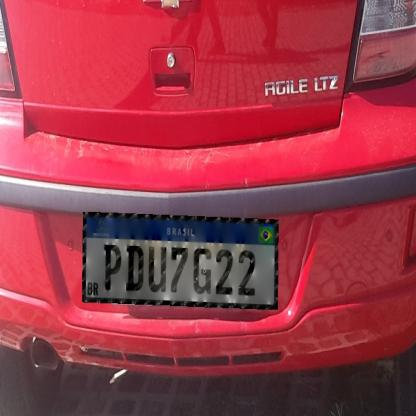PlacaM: (82, 212, 279, 310)
